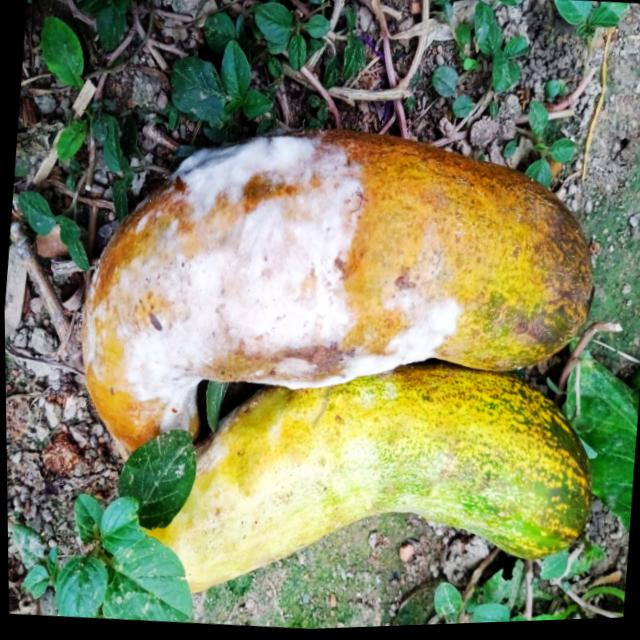Pythium-Fruit-Rot: (67, 109, 476, 467)
